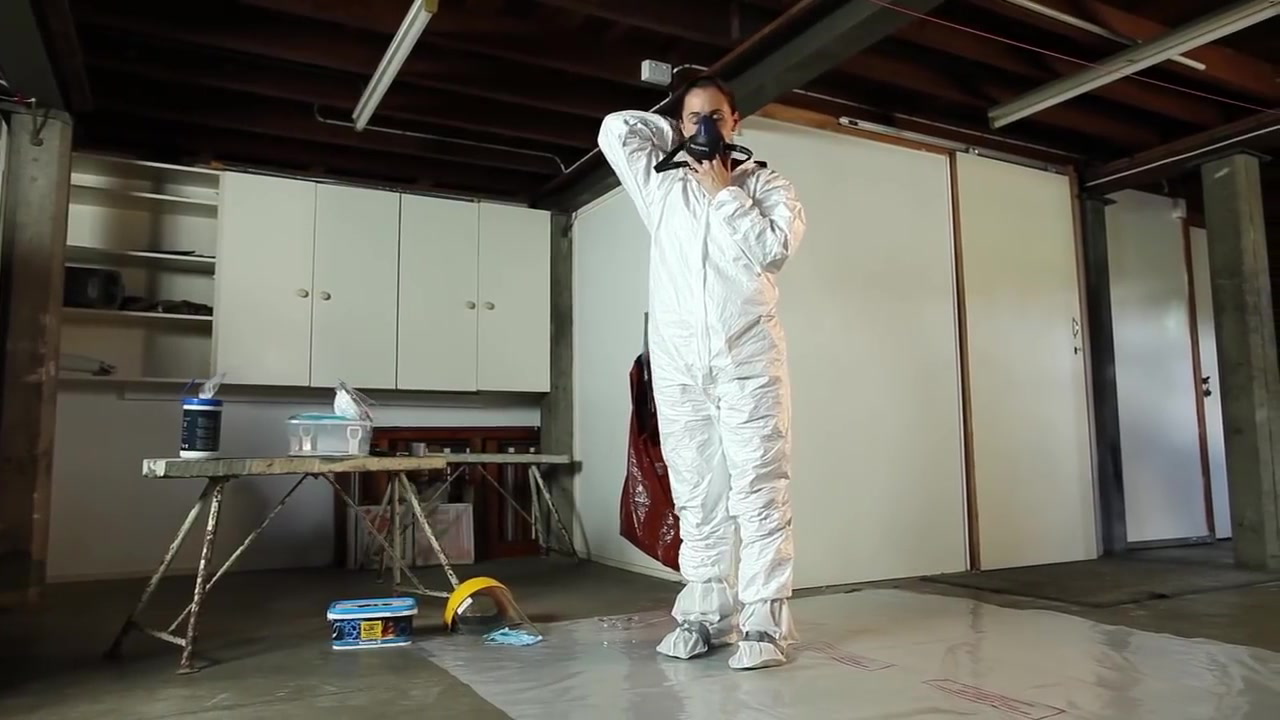Coverall: (576, 117, 831, 670)
with_mask: (688, 120, 733, 168)
